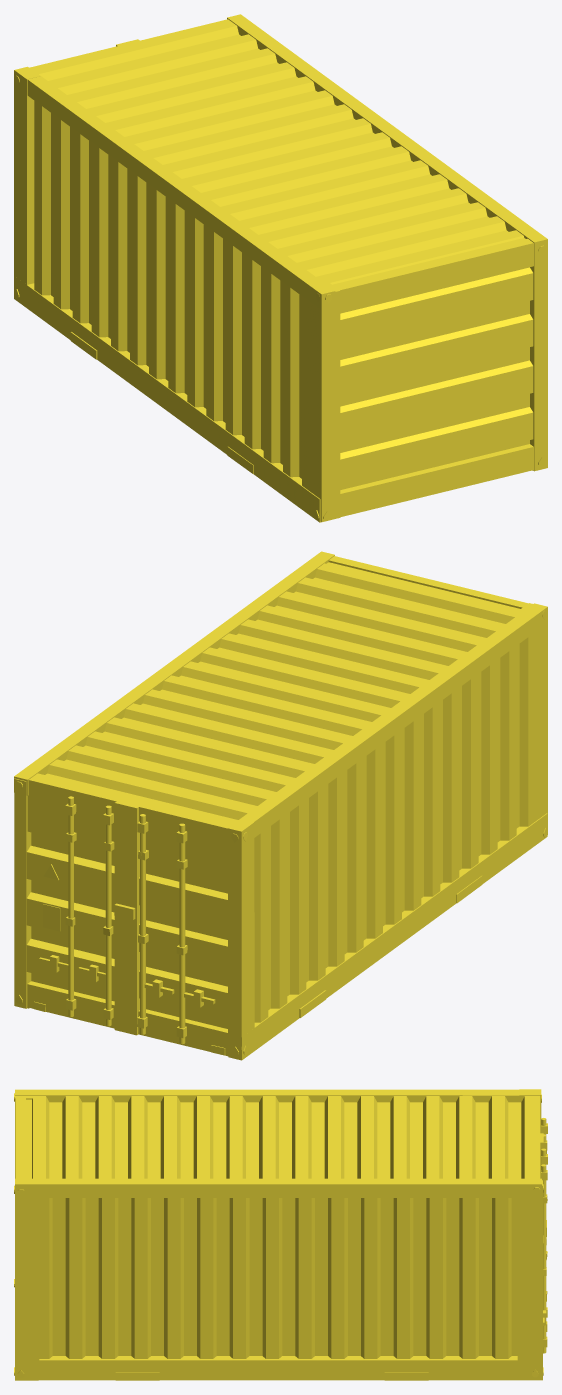
Rendered from container.fbx.
The picture shows the model from 3 angles, top to bottom: view 1: azimuth 30°, elevation 25°; view 2: azimuth 150°, elevation 25°; view 3: azimuth 270°, elevation 25°; orthographic projection. The views are drawn at different scales.
Visible parts, largest first — view 1: Default; view 2: Default; view 3: Default.
Part boxes in pixels (box(x1,y1,x2,y2)): Default: box(14, 14, 547, 522); Default: box(14, 551, 547, 1060); Default: box(14, 1089, 547, 1380).
Size of the model in its own units: 1.34 by 1.28 by 3.16.
